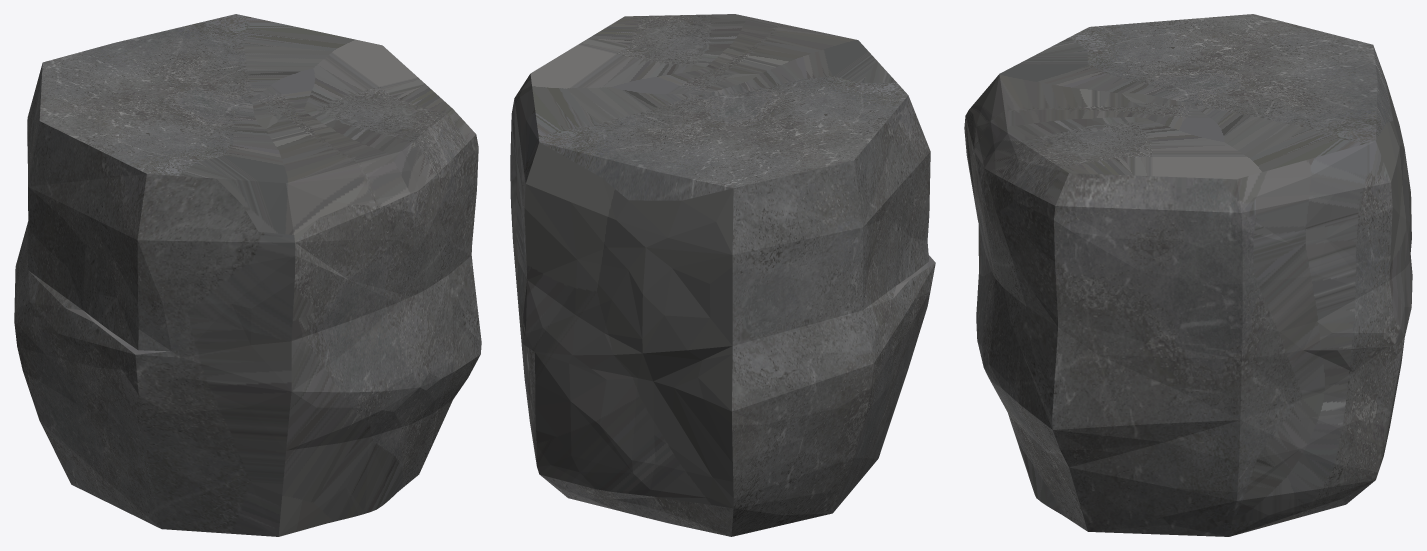
Rendered from Crater.fbx.
3 renders of one model, left to right at view 1: azimuth 30°, elevation 25°; view 2: azimuth 150°, elevation 25°; view 3: azimuth 270°, elevation 25°, orthographic. The views are drawn at different scales.
Visible parts, largest first — view 1: polySurface47; view 2: polySurface47; view 3: polySurface47.
Boxes of the visible parts, box(x1,y1,x2,y2) form: polySurface47: box(14, 14, 481, 536); polySurface47: box(510, 14, 935, 536); polySurface47: box(964, 14, 1412, 536).
Bounding box in the file's own units: 17.18 × 16.05 × 17.59.
